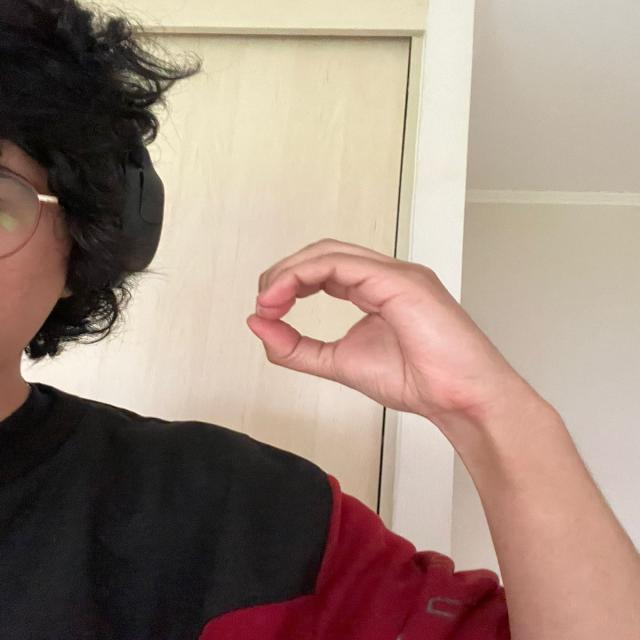O: (237, 226, 503, 430)
